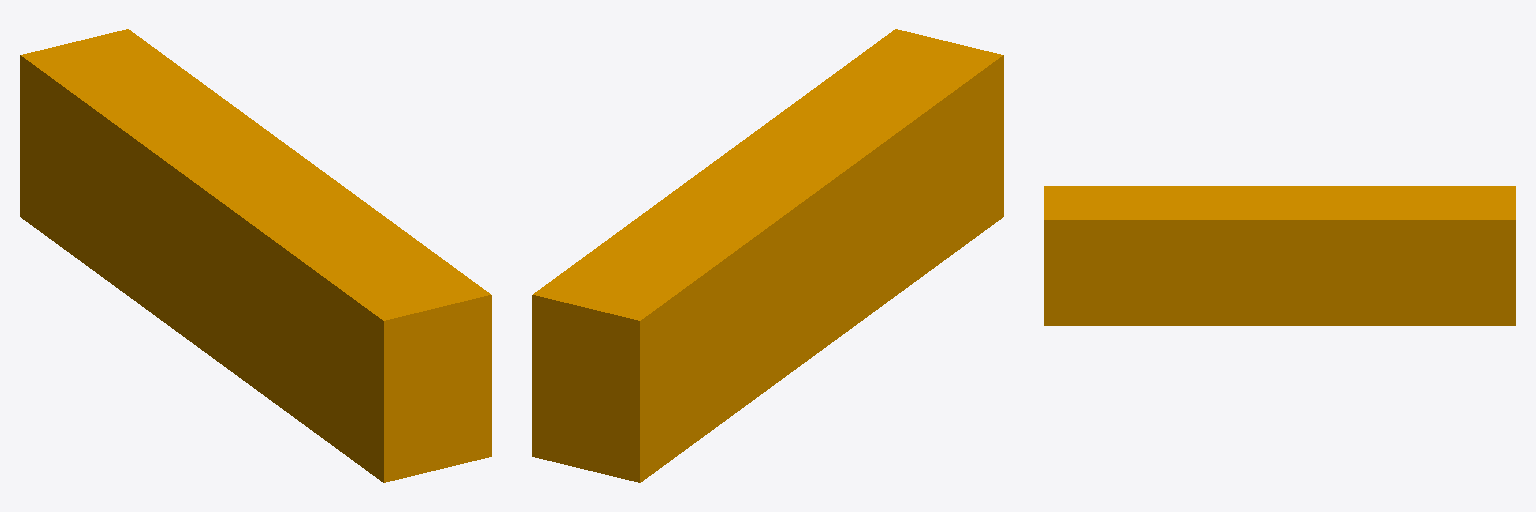
The robot description file, URDF, robot "camera":
<?xml version="1.0"?>
<robot name="camera" xmlns:xacro="http://ros.org/wiki/xacro">
  <!-- Base box -->
  <link name="camera_link">
    <visual>
      <geometry>
        <box size="0.030 0.175 0.0431"/>
      </geometry>
      <material name="Blue"/>
    </visual>
    <collision>
      <geometry>
        <box size="0.030 0.175 0.0431"/>
      </geometry>
    </collision>
    <inertial>
      <mass value="1"/>
      <origin xyz="0 0 0" rpy="0 0 0"/>
      <inertia ixx="0.1" ixy="0.0" ixz="0.0" iyy="0.1" iyz="0.0" izz="0.1"/>
    </inertial>  
  </link>
  
  <gazebo>
    <static>true</static>
  </gazebo>
  
  <!-- Gazebo camera plugin -->
  <gazebo reference="camera_link">
    <sensor type="camera" name="gazebo_camera">
      <pose> 0 -0.06 -0.02 0 1.57079632679 0 </pose>
      <visualize>true</visualize>
      <update_rate>30</update_rate>
      <camera>
        <horizontal_fov>1.9199</horizontal_fov>
        <image>
          <width>640</width>
          <height>480</height>
          <format>R8G8B8</format>
        </image>
        <clip>
          <near>0.3</near>
          <far>20.0</far>
        </clip>
      </camera>
      <plugin name="camera_controller" filename="libgazebo_ros_camera.so">
        <ros>
          <namespace>/my_camera</namespace>
          <image_topic_name>image_raw</image_topic_name>
          <camera_info_topic_name>camera_info</camera_info_topic_name>
        </ros>
      </plugin>
    </sensor>
  </gazebo>

</robot>

--- What the picture shows (computed from the rendered views, not written in the file) ---
The picture shows the robot from 3 angles, left to right: view 1: azimuth 30°, elevation 25°; view 2: azimuth 150°, elevation 25°; view 3: azimuth 270°, elevation 25°; orthographic projection.
Model camera with 1 links and 0 joints (none), rooted at camera_link, posed every joint at zero.
Links seen in each view (by area): view 1: camera_link; view 2: camera_link; view 3: camera_link.
Link boxes in pixels (box(x1,y1,x2,y2)): camera_link: box(20, 29, 491, 482); camera_link: box(532, 29, 1003, 482); camera_link: box(1044, 186, 1515, 325).
Size in the robot's own frame: 0.03 by 0.175 by 0.0431 metres.
Geometry: primitives only (box / cylinder / sphere), no mesh files.